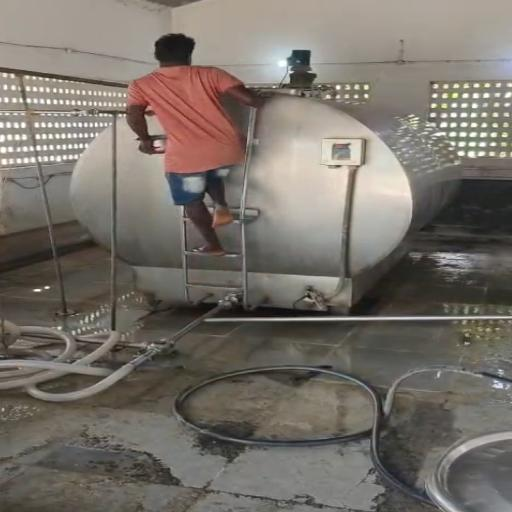silo: (72, 87, 467, 310)
vessel: (131, 133, 166, 154)
